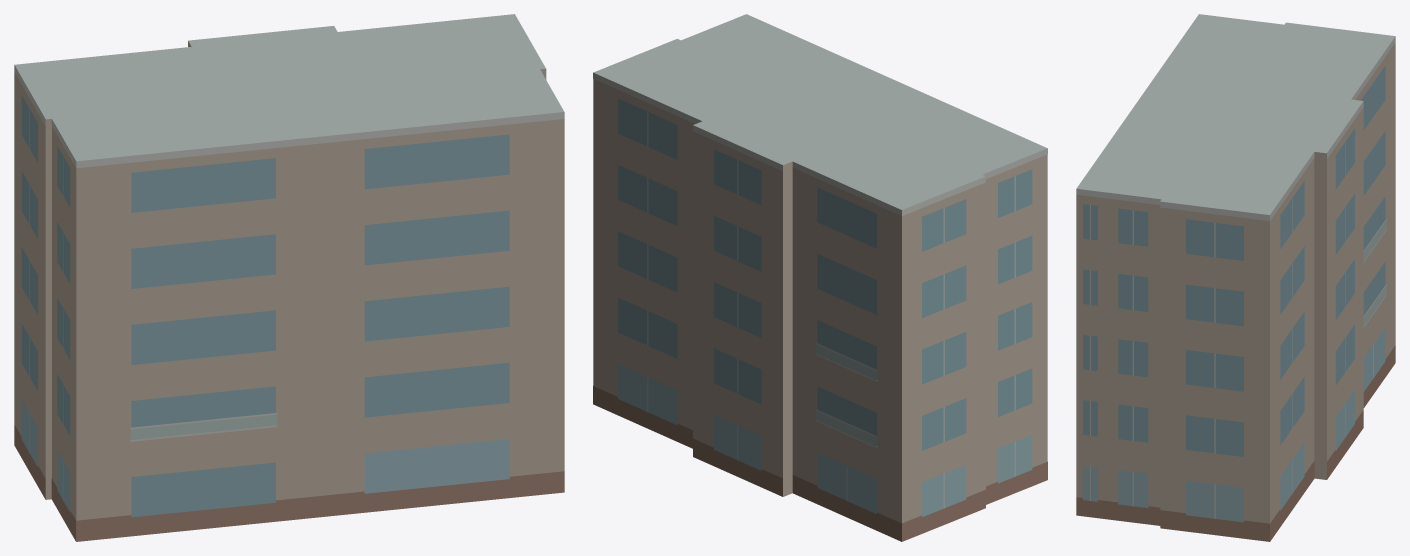
File: survey-upis-32998446.glb
3 views of the same model, side by side, from view 1: azimuth 30°, elevation 25°; view 2: azimuth 150°, elevation 25°; view 3: azimuth 270°, elevation 25° (orthographic). The views are drawn at different scales.
Parts seen in each view (by area): view 1: survey-upis-32998446.tmp; view 2: survey-upis-32998446.tmp; view 3: survey-upis-32998446.tmp.
Part boxes in pixels (box(x1,y1,x2,y2)): survey-upis-32998446.tmp: box(14, 14, 564, 541); survey-upis-32998446.tmp: box(593, 14, 1047, 541); survey-upis-32998446.tmp: box(1076, 14, 1395, 541).
Bounding box in the file's own units: 17.7 × 13.4 × 11.88.
